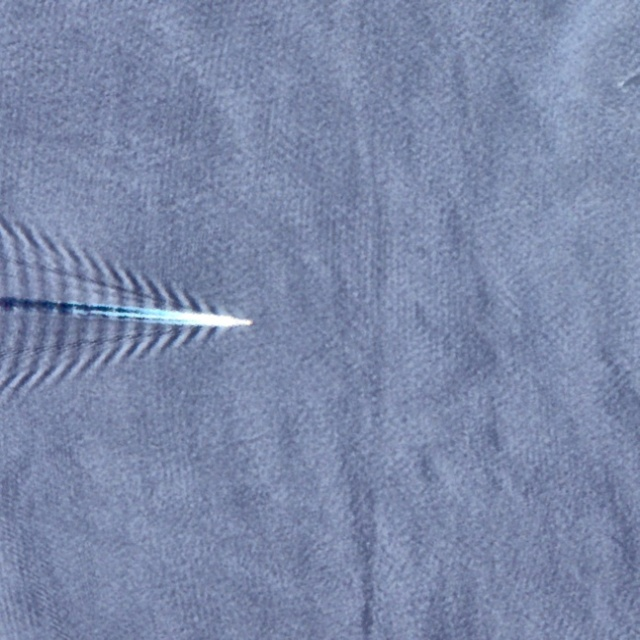wake: (46, 239, 259, 395)
